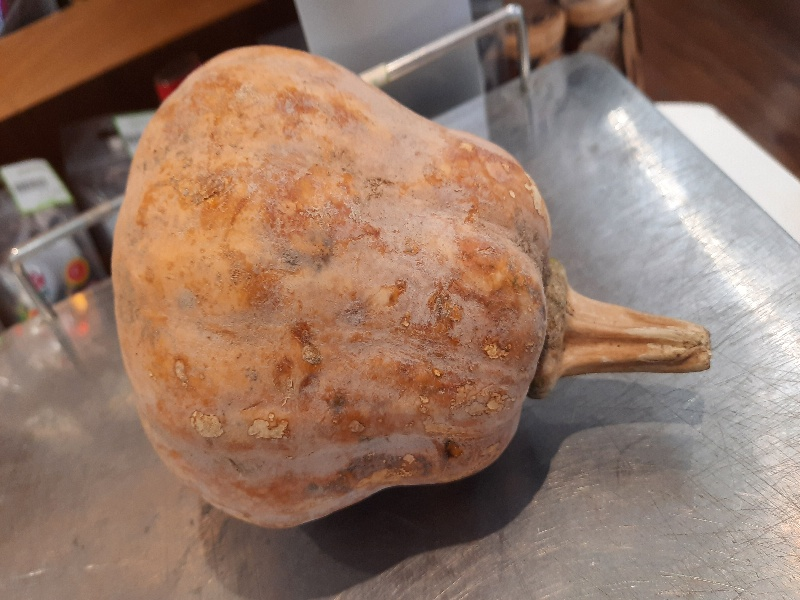vege: (108, 34, 716, 537)
